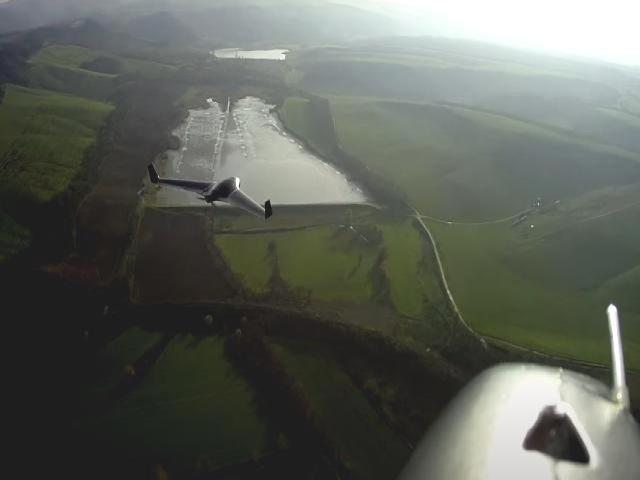iha: (142, 162, 270, 218)
